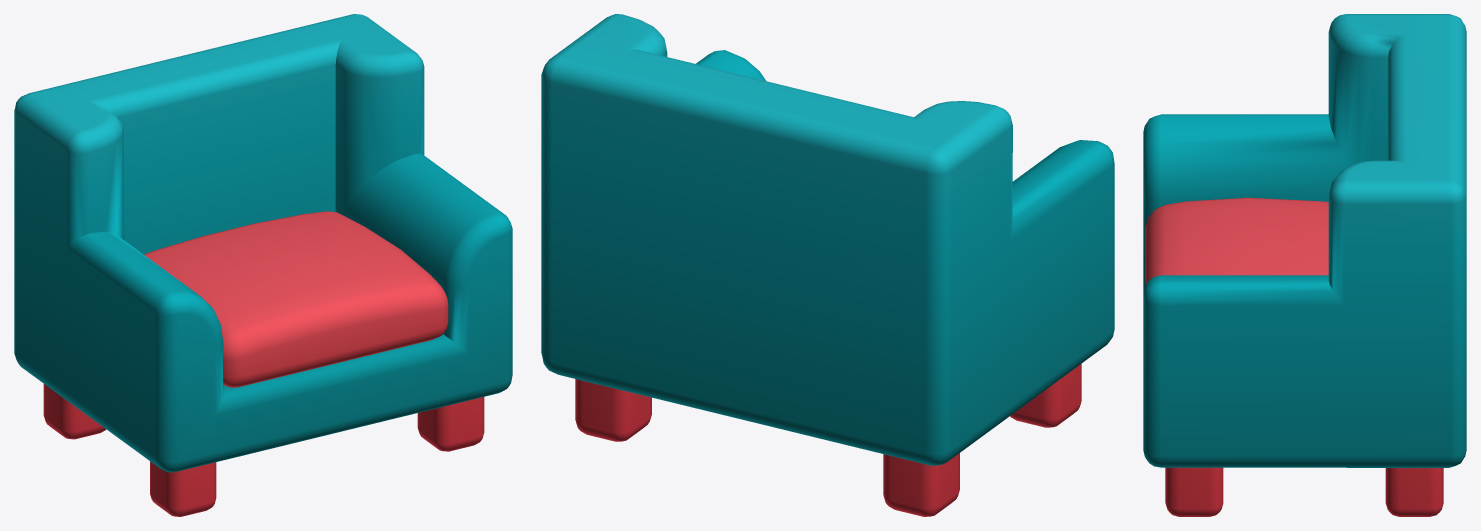
The model's file is Armchair_19.glb.
3 views of the same model, side by side, from view 1: azimuth 30°, elevation 25°; view 2: azimuth 150°, elevation 25°; view 3: azimuth 270°, elevation 25° (orthographic). The views are drawn at different scales.
Visible parts, largest first — view 1: Armchair_19; view 2: Armchair_19; view 3: Armchair_19.
Part boxes in pixels (x1=…): Armchair_19: x1=14, y1=14, x2=512, y2=516; Armchair_19: x1=541, y1=14, x2=1114, y2=516; Armchair_19: x1=1143, y1=14, x2=1466, y2=516.
Bounding box in the file's own units: 1.08 × 0.9607 × 0.82.
Materials: 1 (1 with a texture image).
